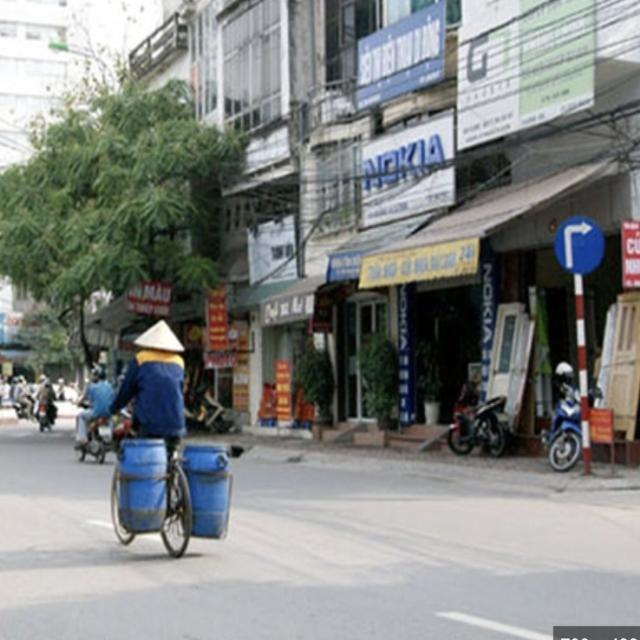301d-cac-xe-chi-duoc-re-phai-2: (554, 214, 606, 274)
